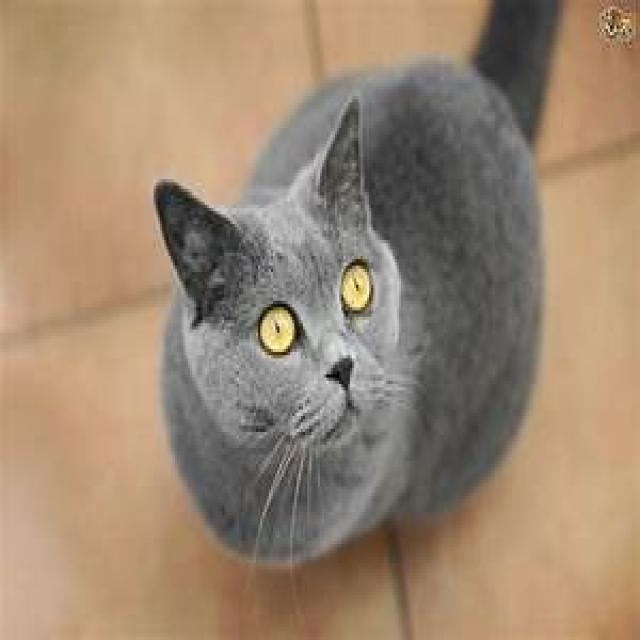cat: (150, 0, 566, 573)
